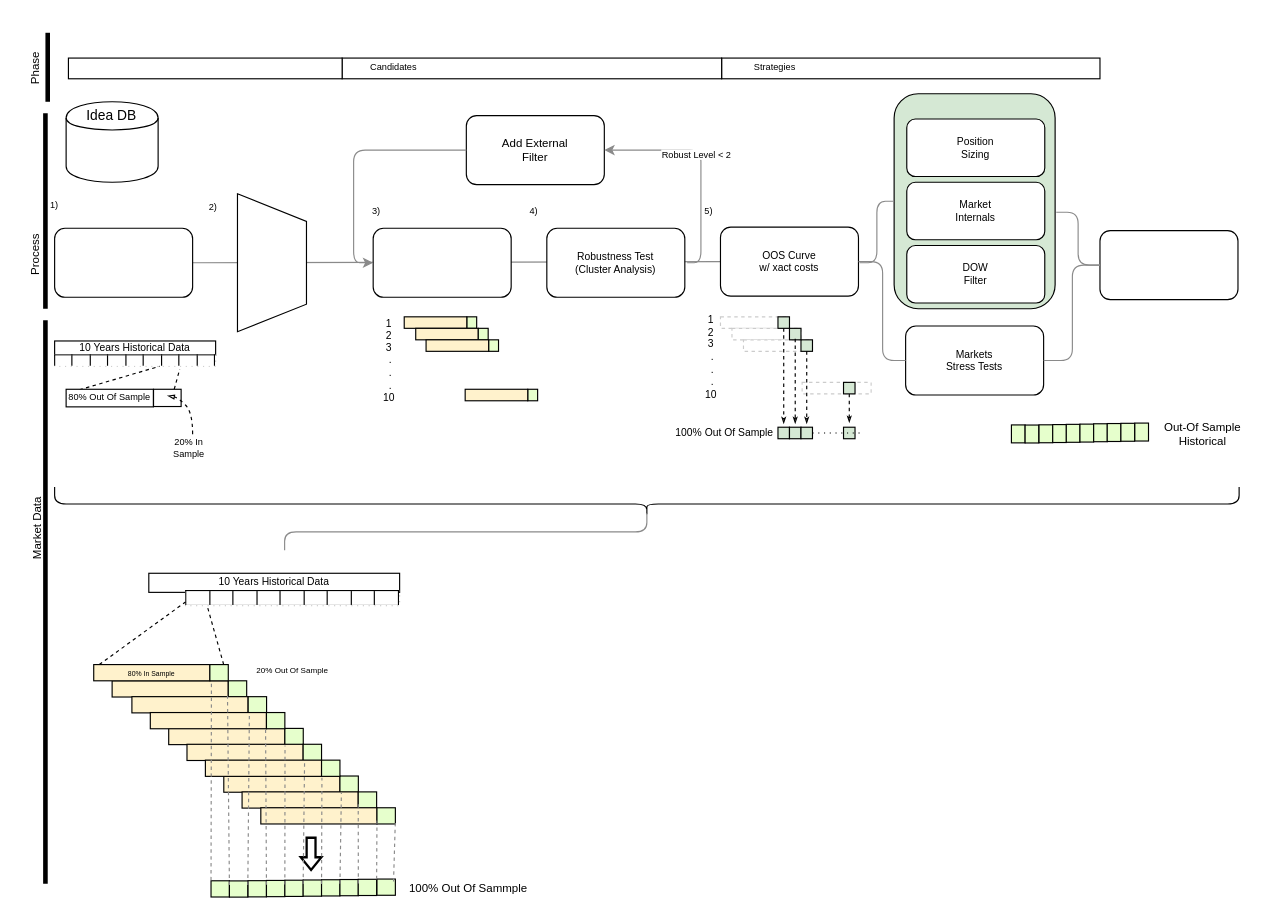
Some shapes in this 1278 by 922 pixel diagram are drawn without their labels. The box of each missing label's shape, as (x1, y1, x2, y2) in pixels:
* Entries * Exits * Filtters: (65, 101, 158, 182)
External Filters: (893, 93, 1055, 309)
In-Sample Out-Of-Sample Filter: (236, 193, 306, 332)
Out Of Sample Tests: (1099, 229, 1238, 300)
Prototypes: (67, 57, 342, 79)
Rapid Prototyping (Genetic Algo): (53, 227, 193, 297)
Walk Forward Analysis: (372, 227, 511, 297)
